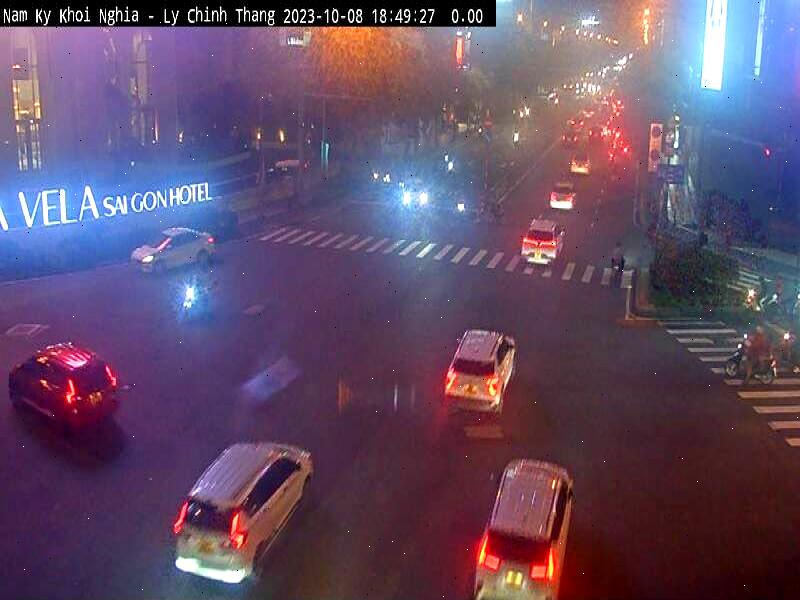car: (170, 437, 316, 596), (472, 454, 579, 600), (7, 346, 125, 445), (443, 328, 518, 427), (130, 224, 218, 275), (520, 216, 570, 270), (548, 184, 578, 210)
